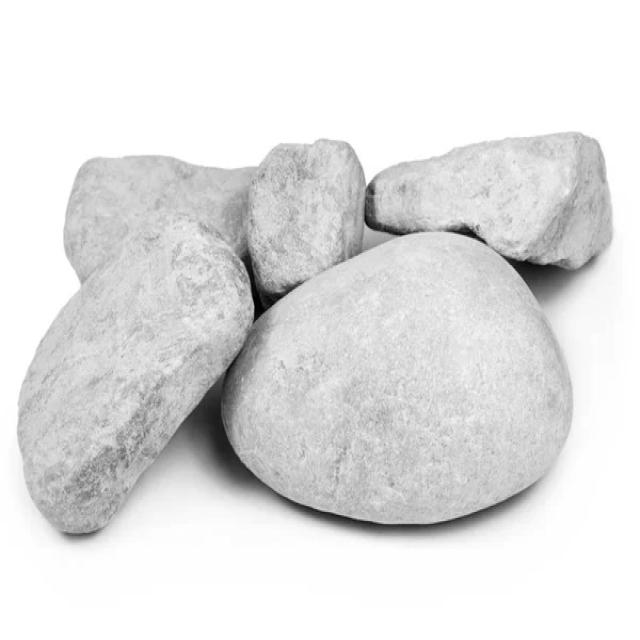Stone: (222, 232, 574, 526), (17, 214, 254, 534), (353, 110, 616, 272), (63, 155, 257, 282), (247, 138, 366, 308)
